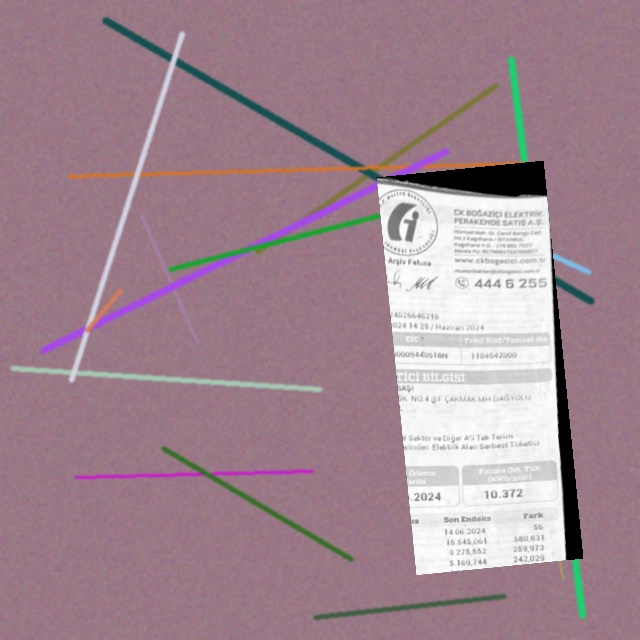electricity-bill: (375, 161, 582, 575)
